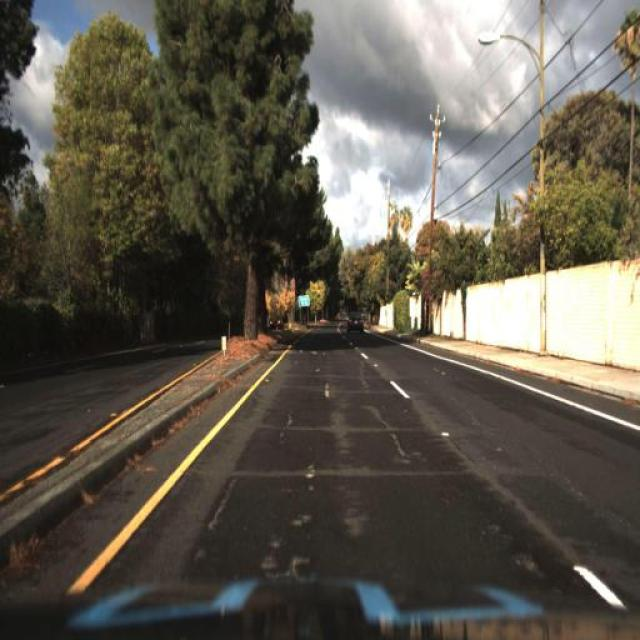car: (347, 311, 364, 335)
